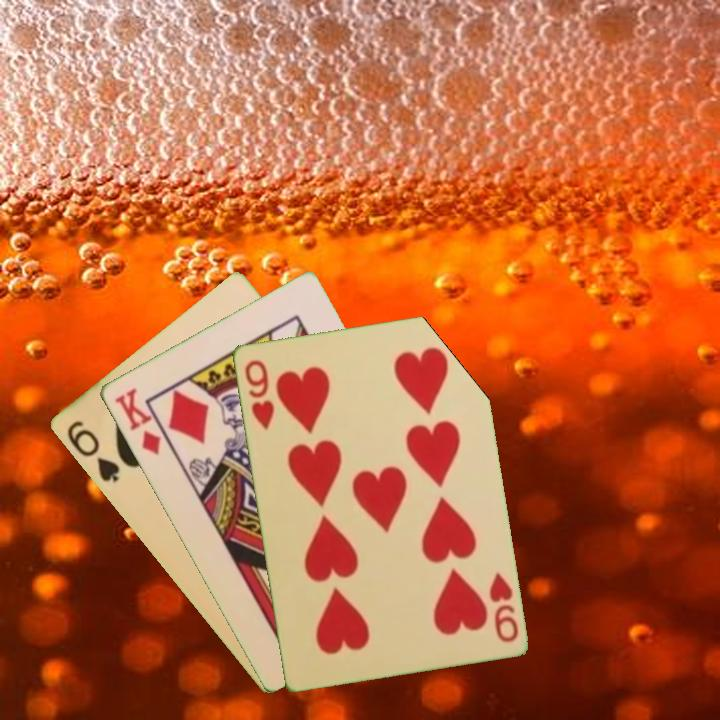6s: (63, 416, 123, 485)
9h: (240, 356, 277, 432), (485, 568, 521, 645)
Kd: (110, 384, 163, 458)
